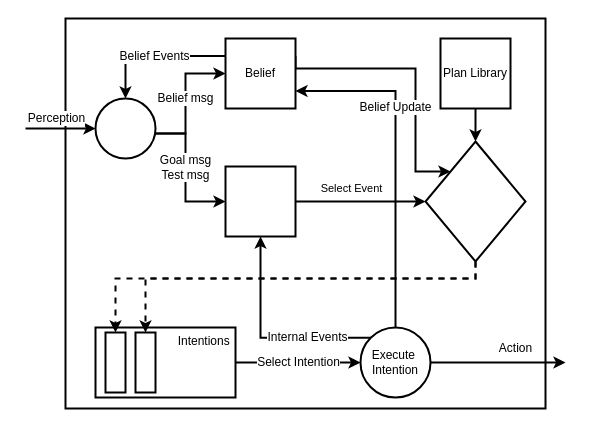
Image size: 591x426. Some labels were removed from this diagram. Each missing label, with the box of its shape:
Events: (224, 165, 296, 237)
Unify Event Unify Context Select Plan: (424, 140, 526, 262)
